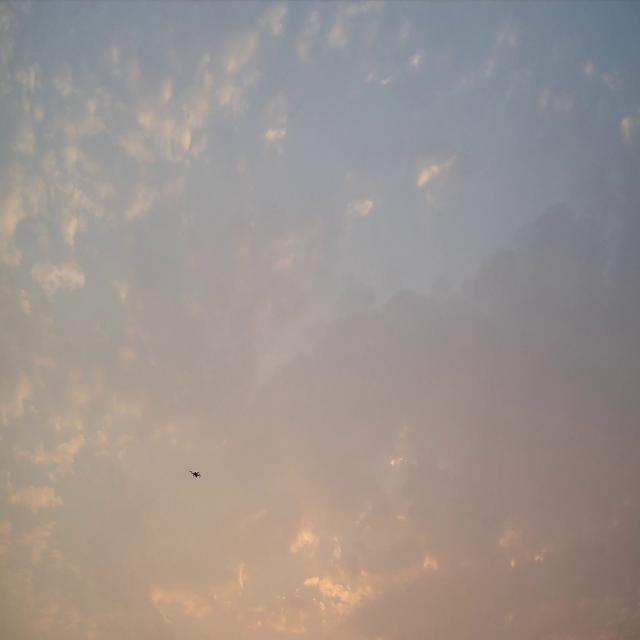drone: (189, 470, 202, 478)
